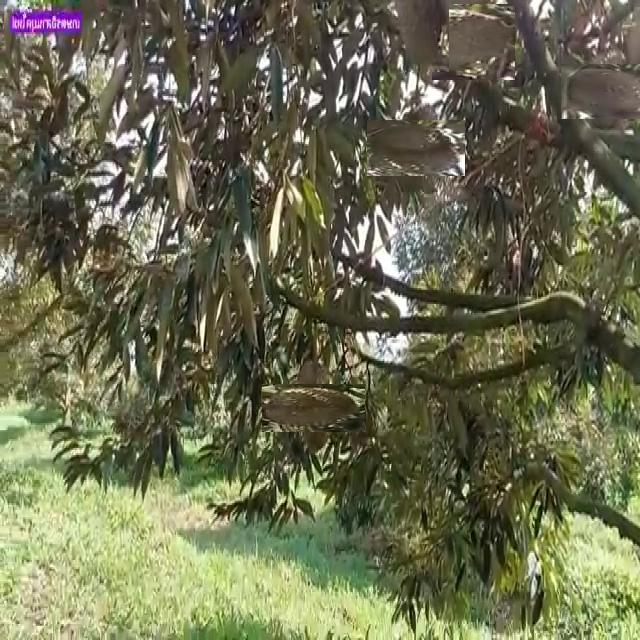durian: (434, 2, 514, 82), (377, 109, 454, 186), (276, 370, 352, 446), (570, 54, 640, 127), (392, 0, 448, 72)
